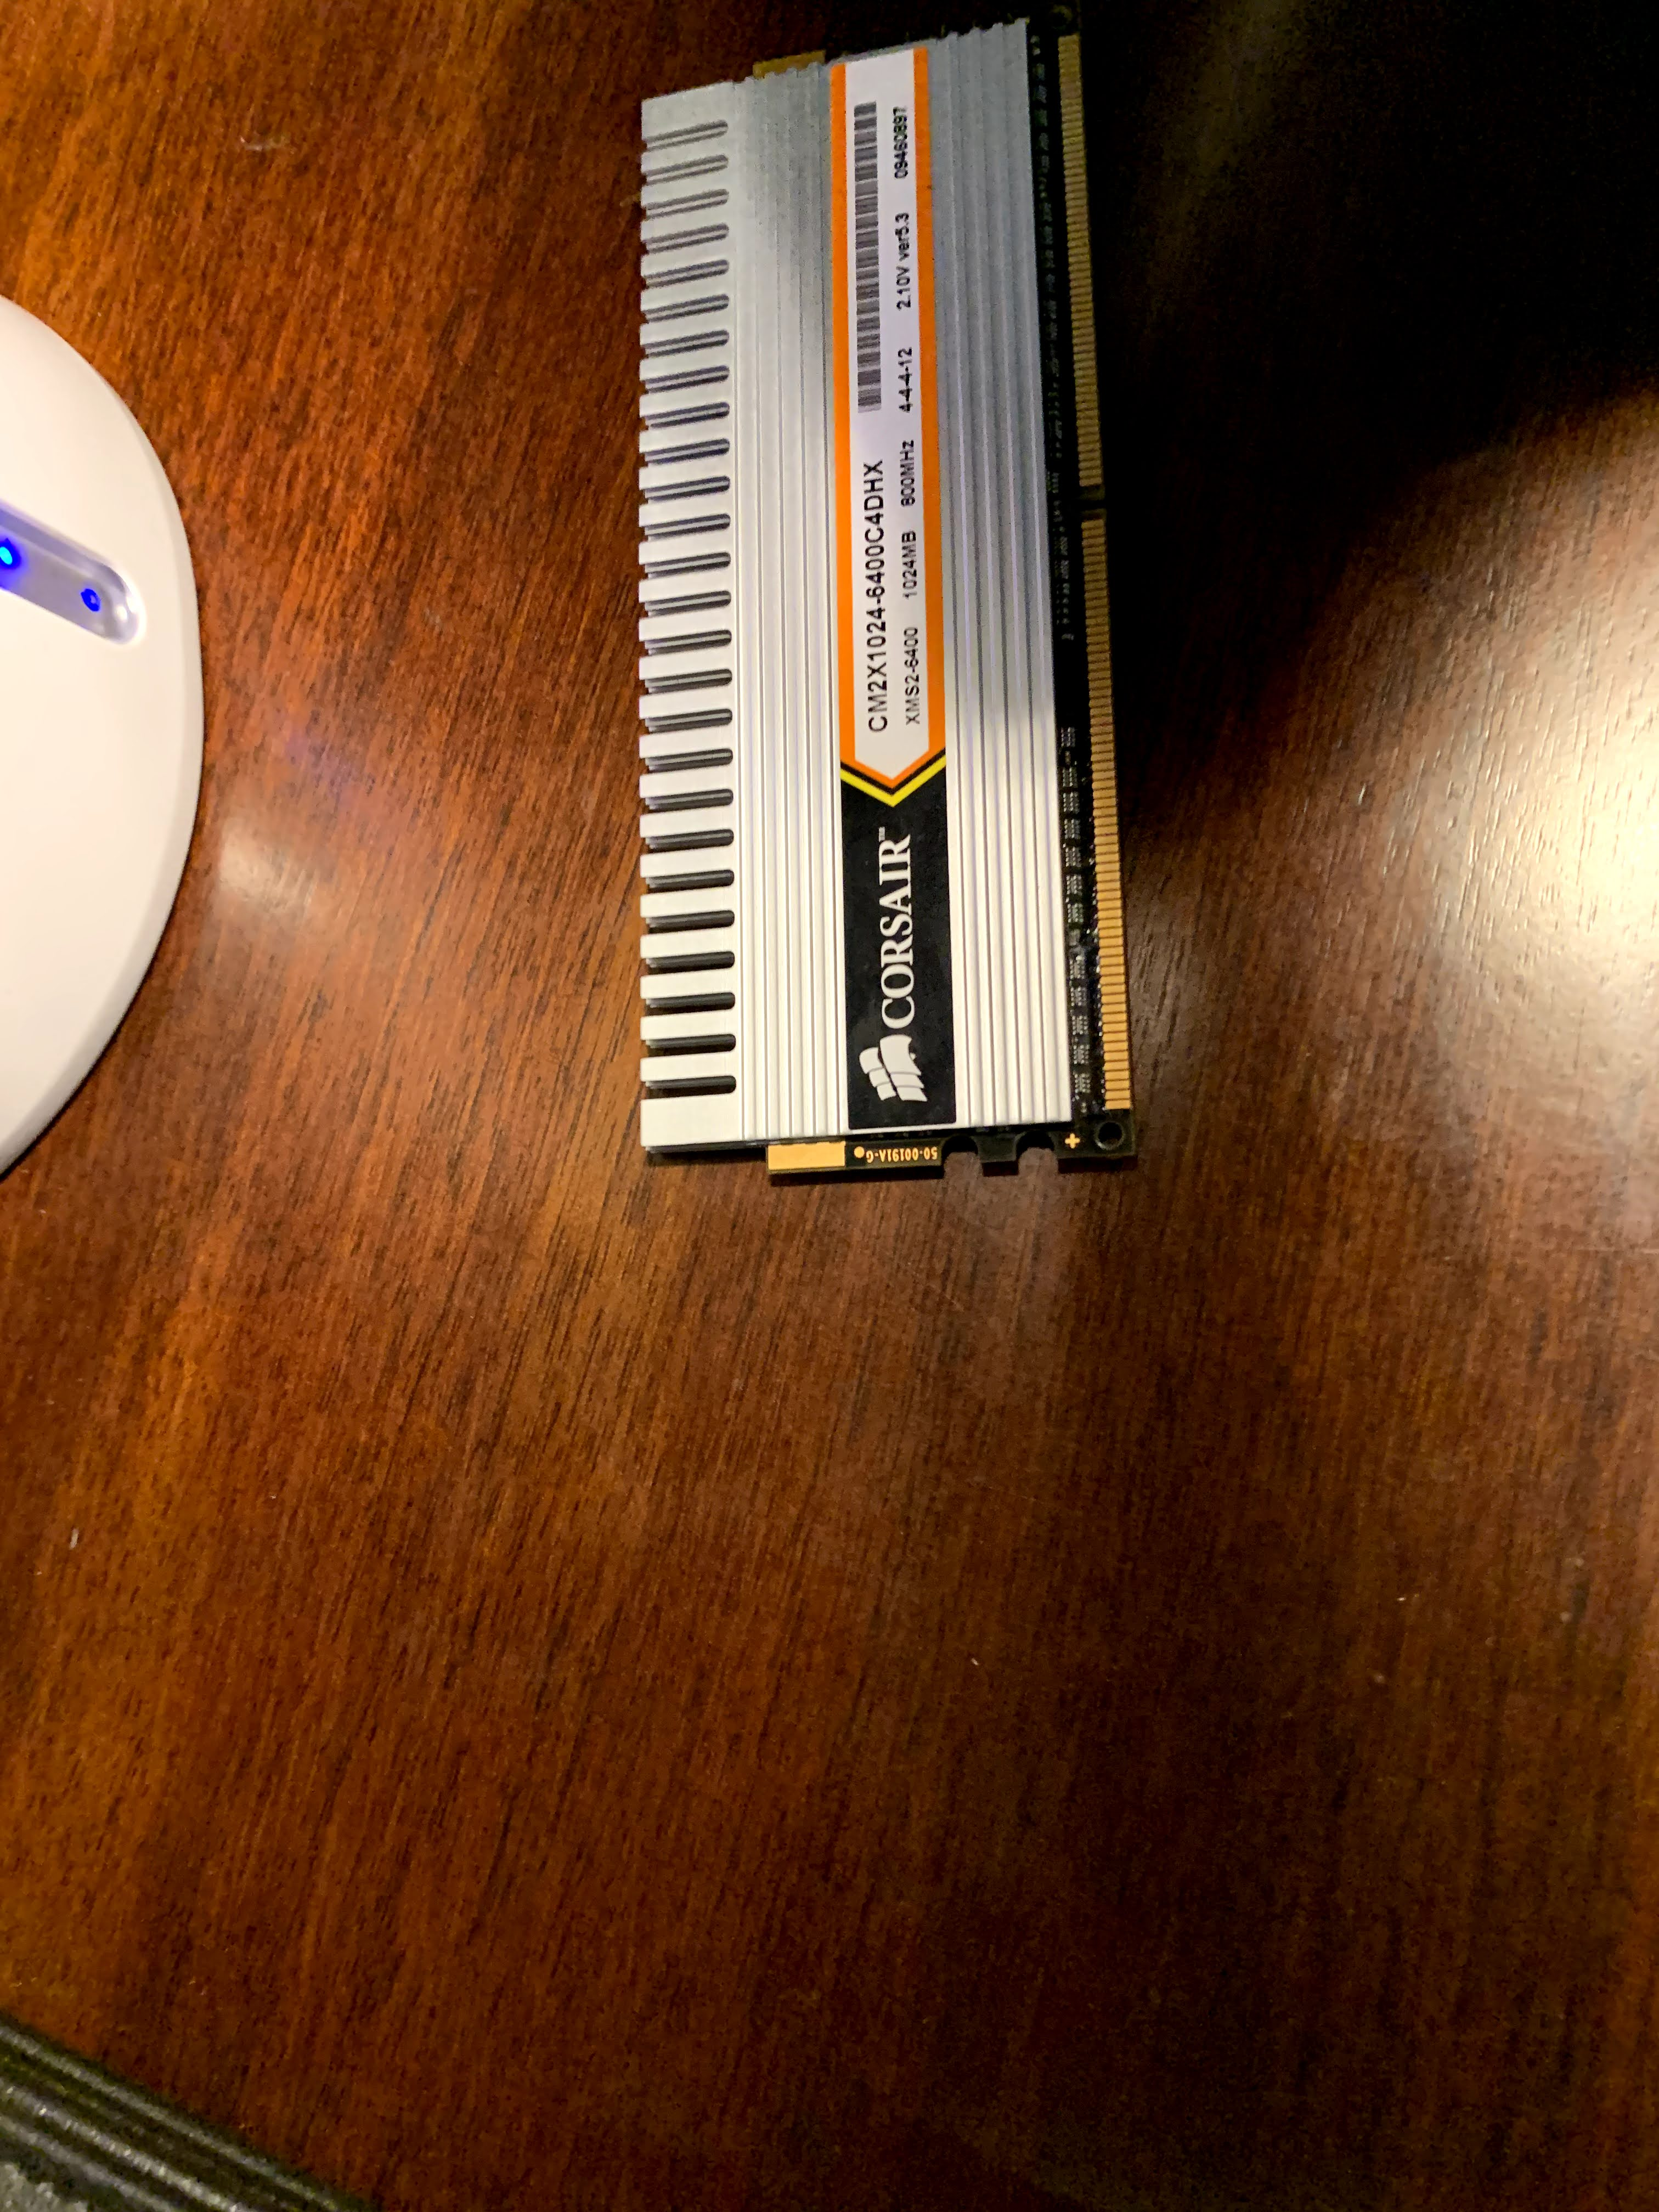Space-debris-medium: (620, 16, 1155, 1223)
